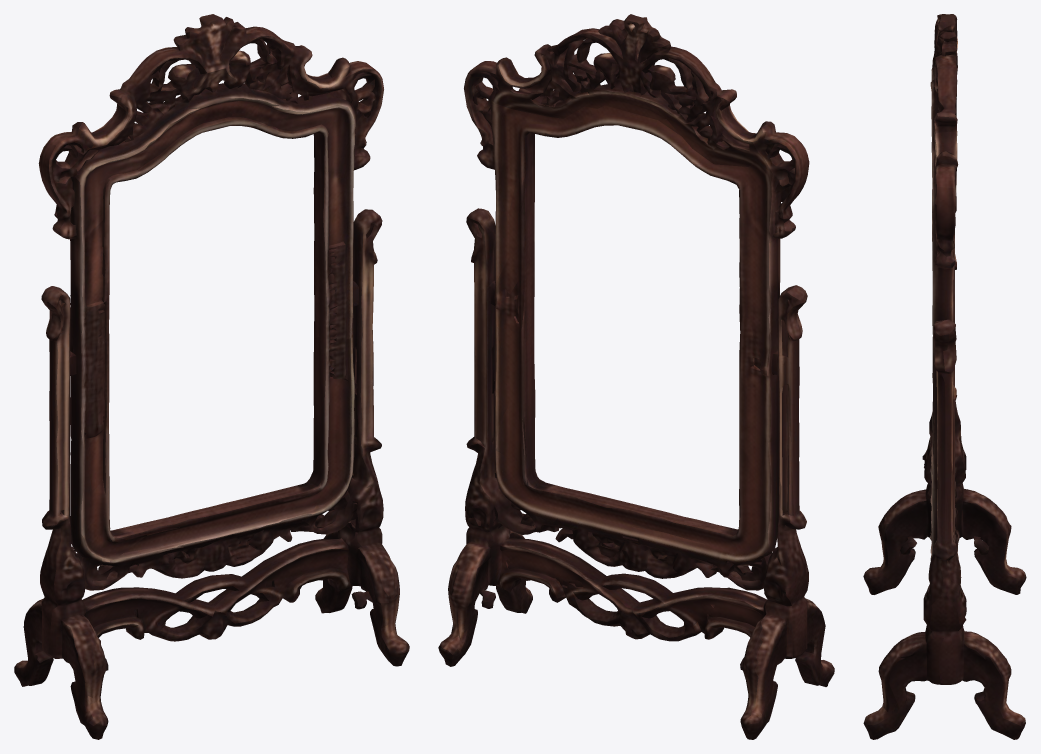
3 renders of one model, left to right at view 1: azimuth 30°, elevation 25°; view 2: azimuth 150°, elevation 25°; view 3: azimuth 270°, elevation 25°, orthographic.
Parts seen in each view (by area): view 1: world; view 2: world; view 3: world.
Boxes of the visible parts, x1=… form: world: x1=14, y1=14, x2=409, y2=739; world: x1=438, y1=14, x2=834, y2=739; world: x1=863, y1=14, x2=1026, y2=739.
Size of the model in its own units: 4.01 by 7.46 by 1.7.
Materials: 1 (1 with a texture image).
